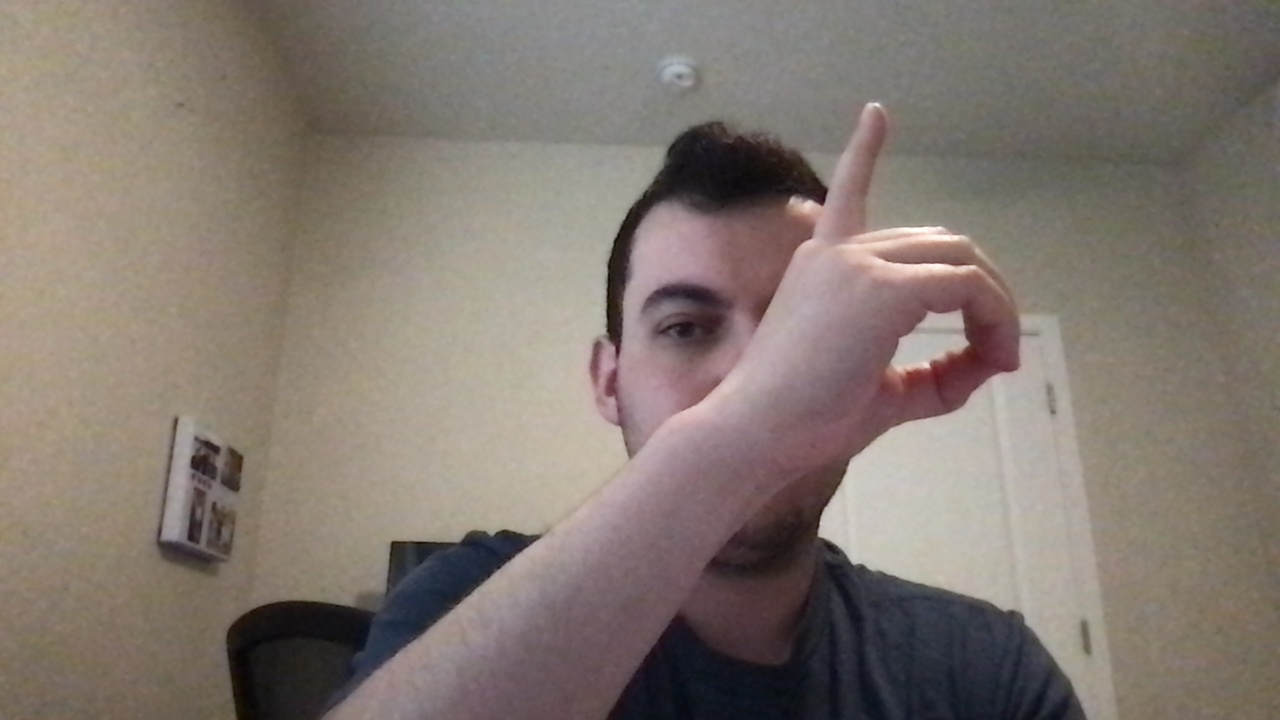d: (677, 93, 1068, 463)
